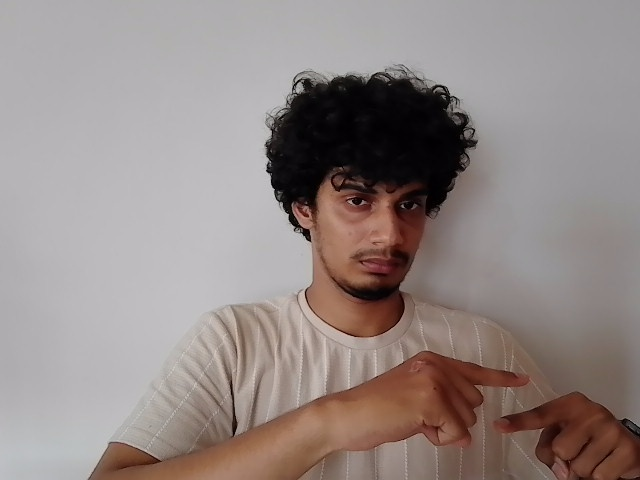about: (323, 350, 640, 479)
